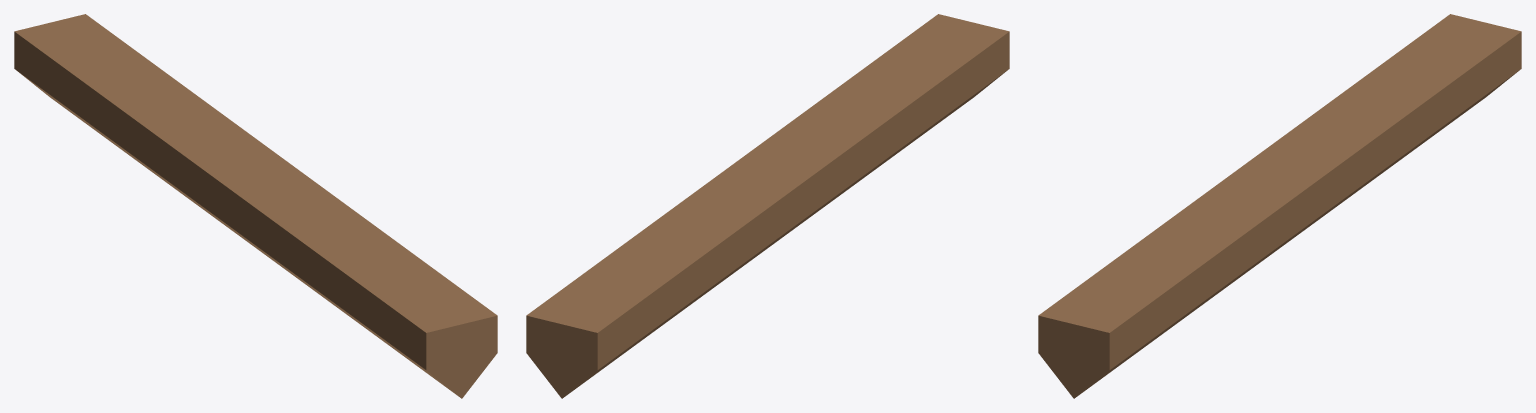
The model's file is Stairs_Indoor_Balcony_Handrail_Straight.obj.
3 views of the same model, side by side, from view 1: azimuth 30°, elevation 25°; view 2: azimuth 150°, elevation 25°; view 3: azimuth 330°, elevation 25° (orthographic).
Visible parts, largest first — view 1: object1; view 2: object1; view 3: object1.
Part boxes in pixels (<box>): object1: <box>14,14,497,398</box>; object1: <box>526,14,1009,398</box>; object1: <box>1038,14,1521,398</box>.
Bounding box in the file's own units: 0.1 × 0.1 × 1.
